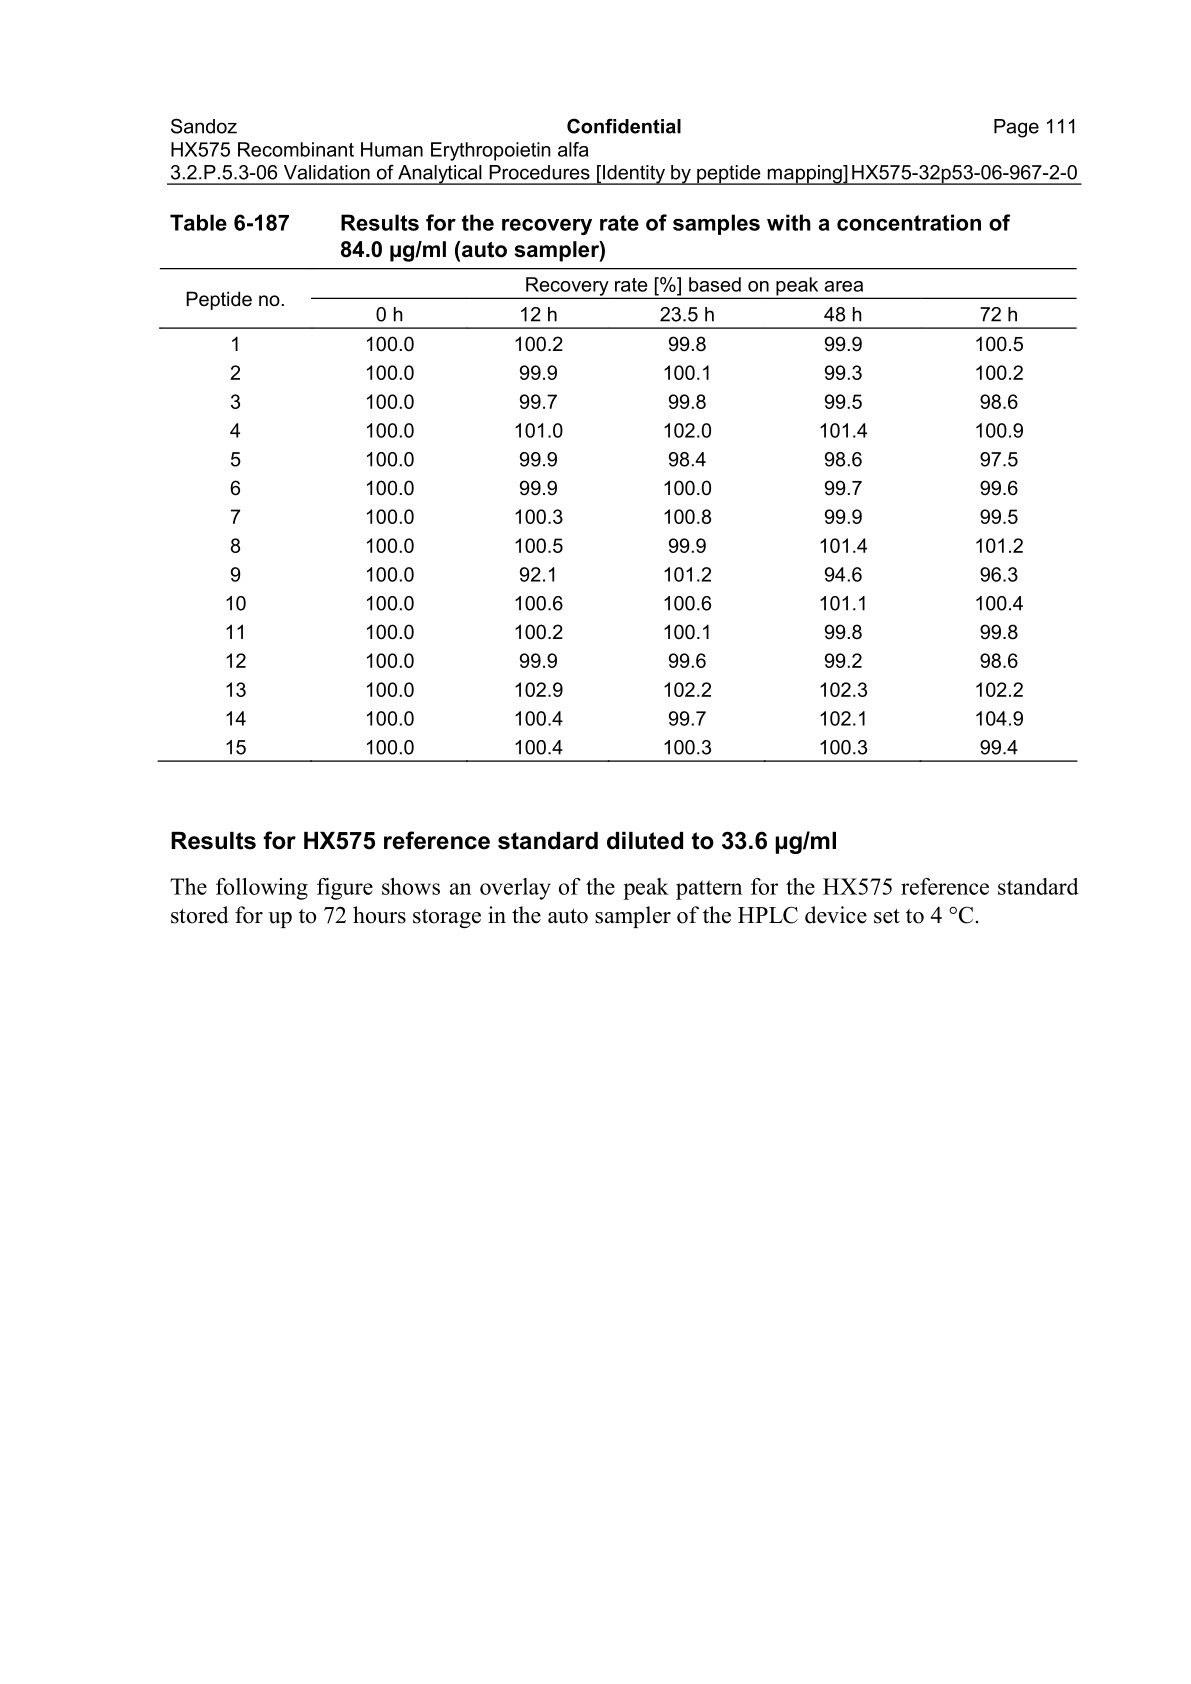partial_lined_merged_cells: (159, 267, 1078, 761)
